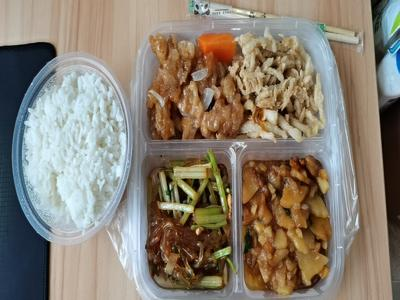gbr: (143, 35, 243, 139)
jrtd: (243, 158, 333, 293)
rice: (19, 65, 130, 249)
